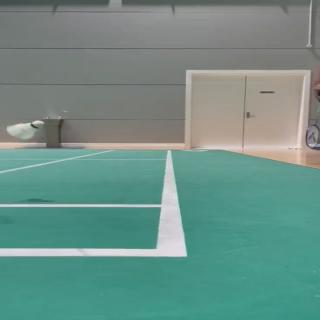Shuttle: (7, 120, 44, 139)
